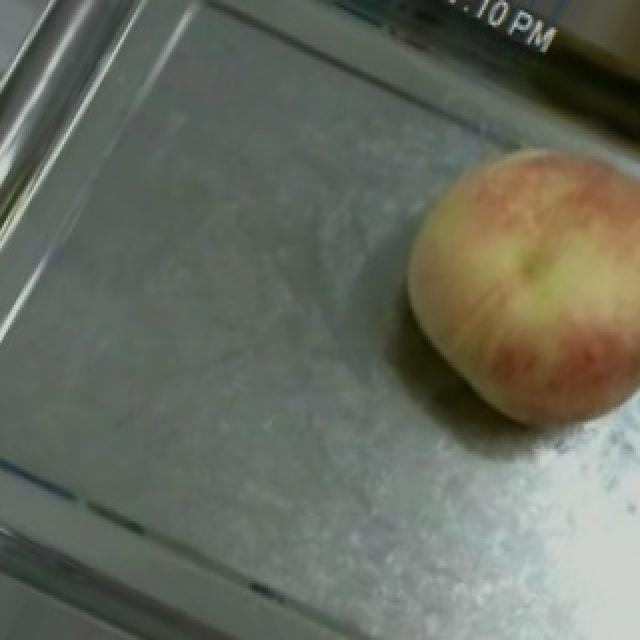Fruit: (356, 100, 640, 467)
